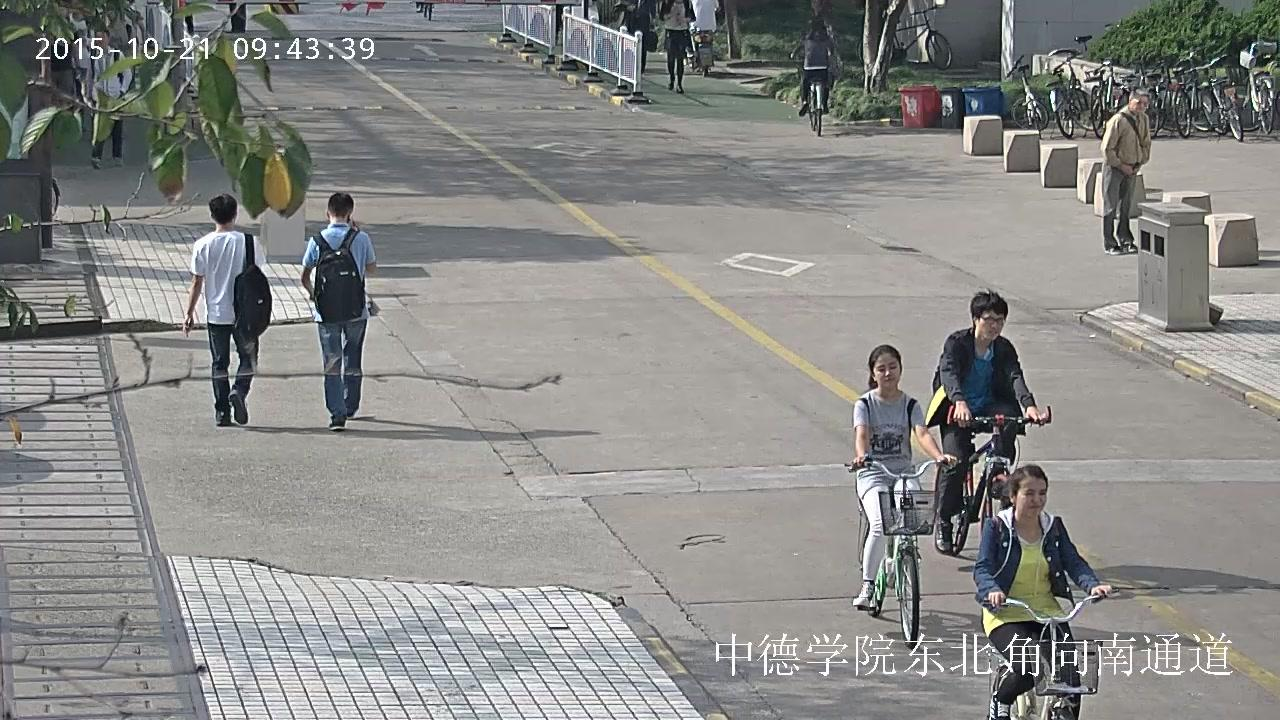face: (1016, 476, 1046, 518), (873, 353, 900, 387), (978, 308, 1003, 340), (1131, 95, 1147, 112), (95, 32, 106, 46), (77, 29, 87, 37)
